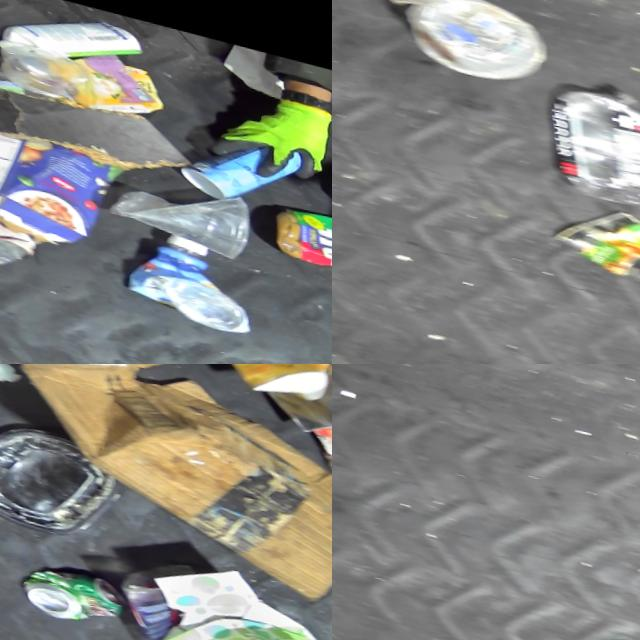can: (543, 190, 640, 283), (19, 551, 131, 628), (257, 178, 332, 263), (259, 364, 332, 439)
plastic_bottle: (539, 62, 640, 206)
